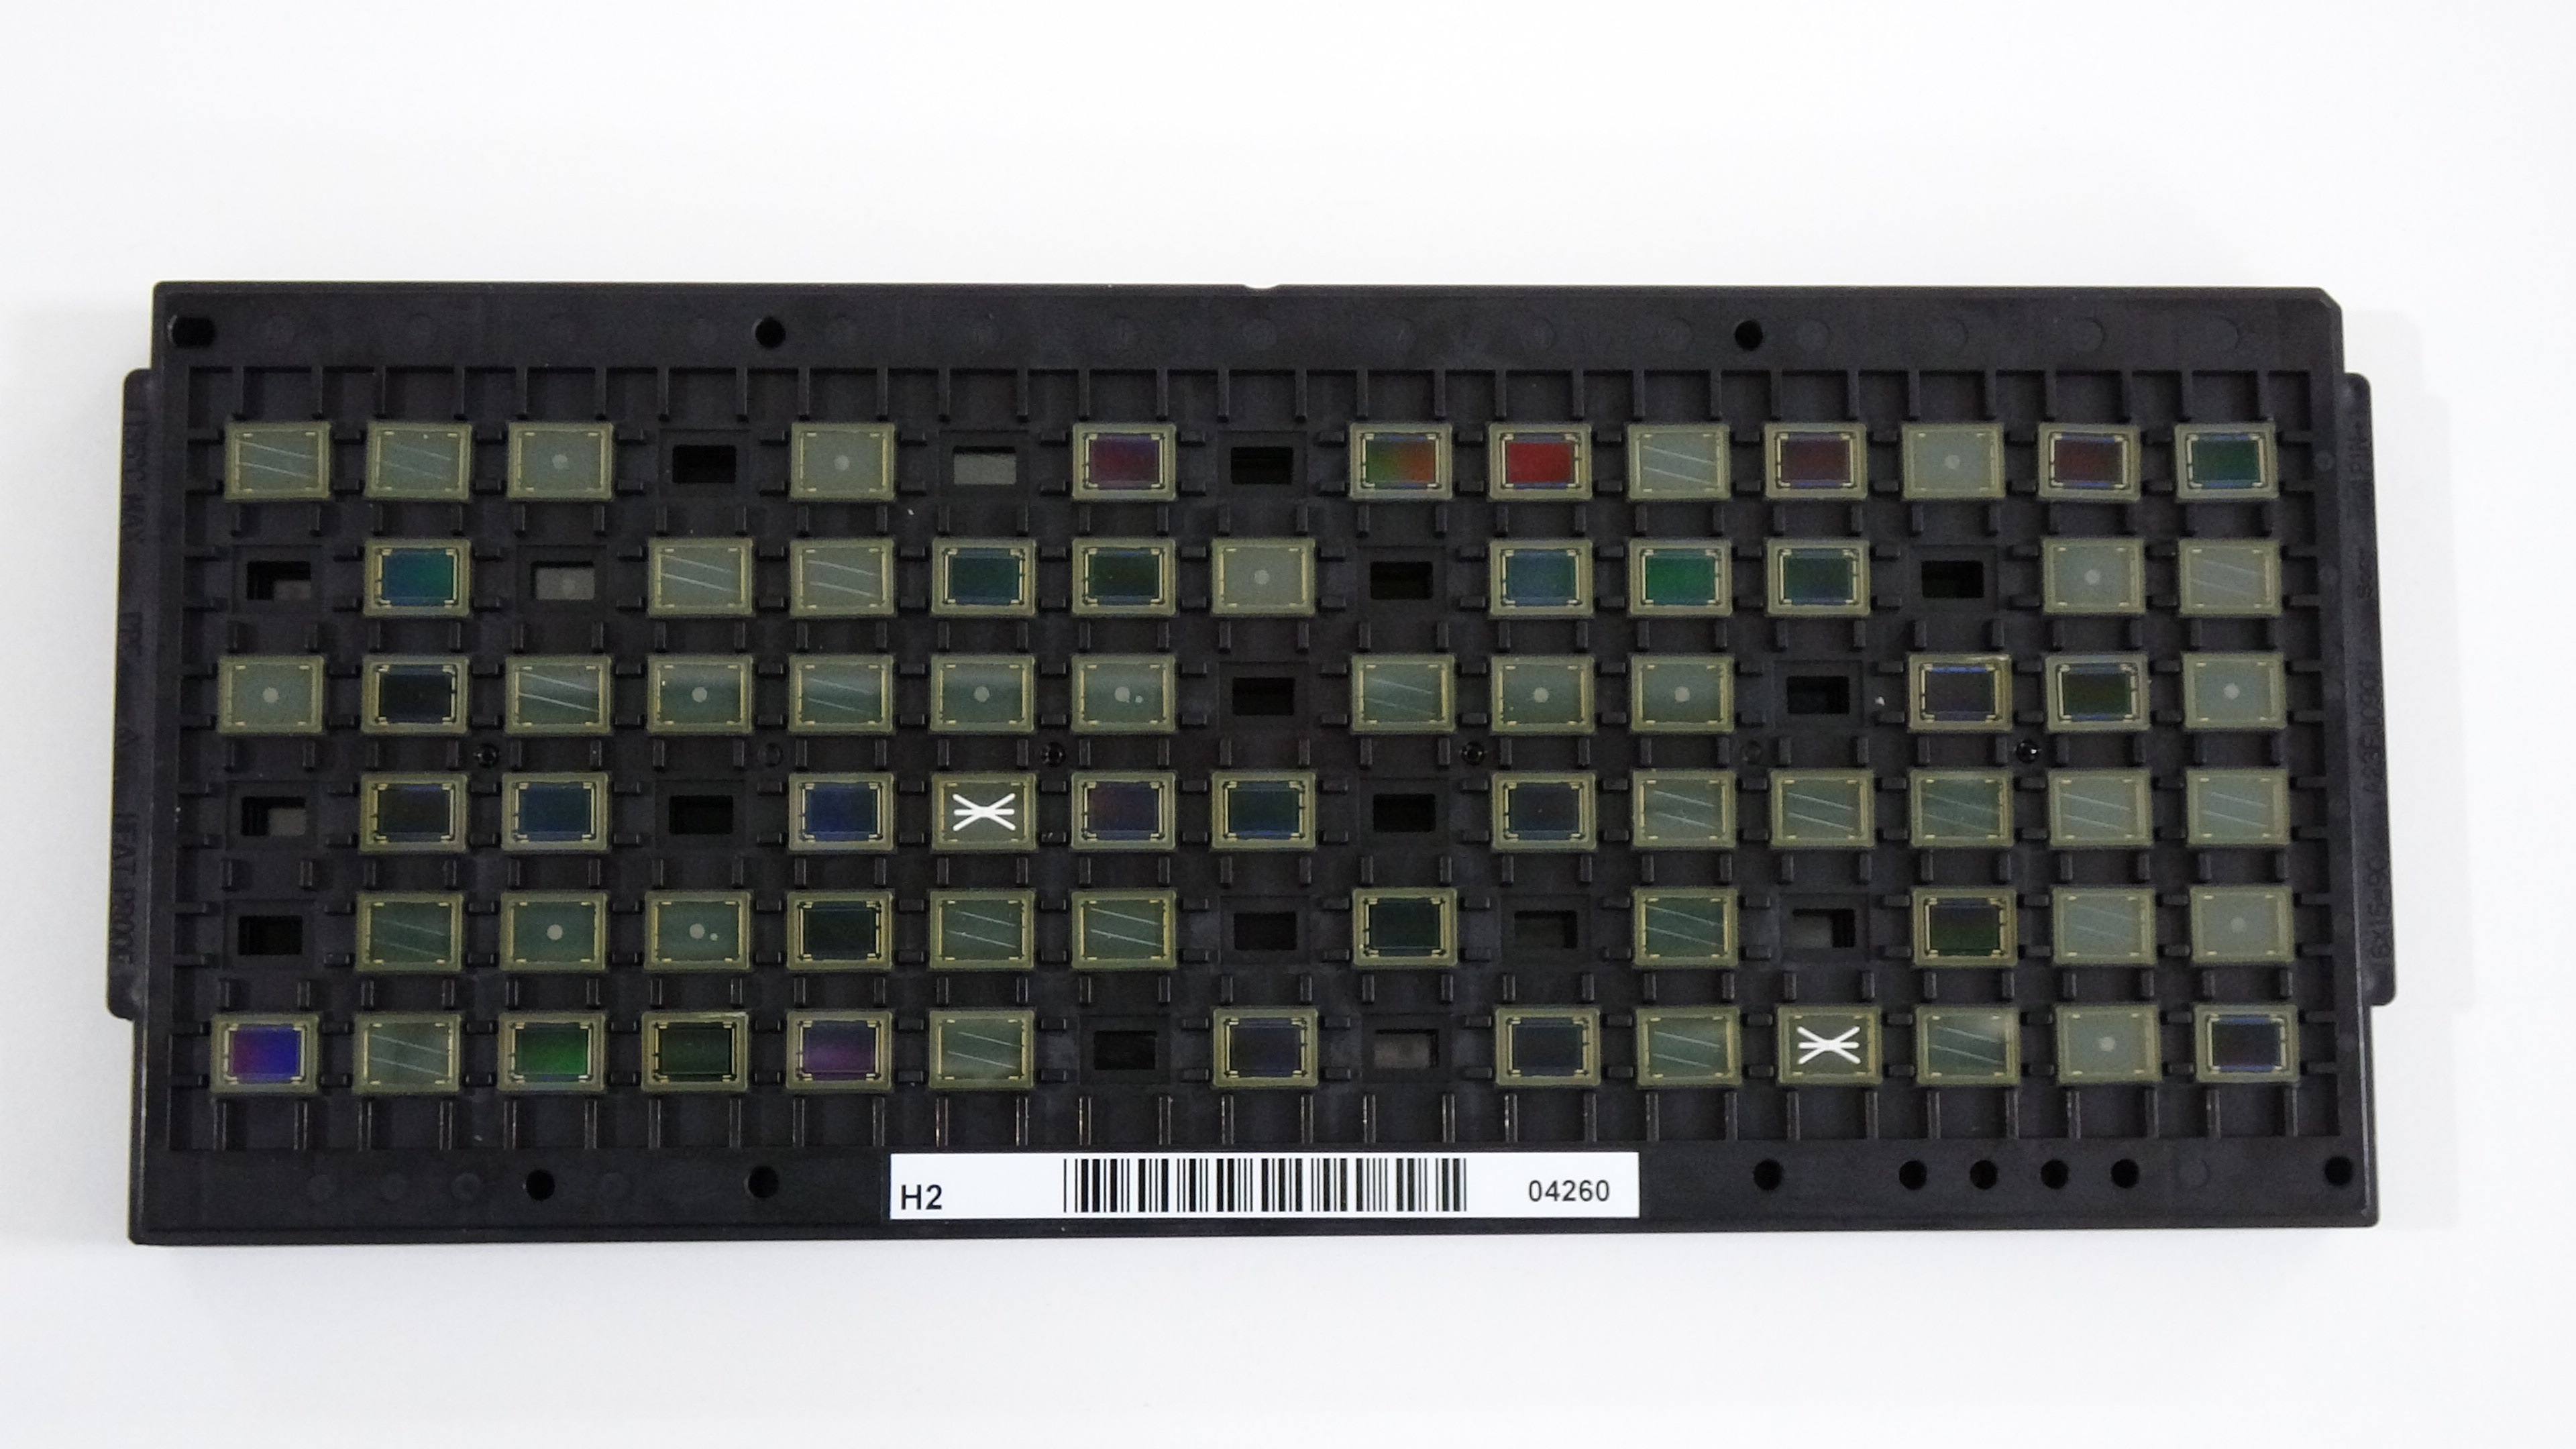Bad_mark_from_BMS_mold: (352, 888, 464, 973), (1637, 1000, 1741, 1088), (364, 418, 471, 504), (929, 885, 1035, 971), (223, 418, 329, 502), (1070, 885, 1177, 970), (925, 1007, 1035, 1088), (1633, 883, 1739, 966), (791, 534, 895, 617), (646, 533, 752, 614), (1909, 766, 2015, 847), (352, 1012, 460, 1092), (1771, 766, 1874, 849), (1916, 1001, 2019, 1085), (1350, 651, 1456, 731), (1629, 766, 1734, 846), (787, 655, 893, 732), (2189, 764, 2289, 846), (2054, 885, 2155, 966), (2051, 766, 2150, 847), (508, 653, 609, 732), (1628, 421, 1729, 501), (2181, 536, 2282, 614)
Bad_mark_from_CDB: (1771, 1001, 1879, 1092), (927, 768, 1039, 853)
Bad_mark_from_Maker: (506, 416, 614, 499), (644, 886, 750, 970), (1208, 536, 1316, 617), (497, 888, 607, 968), (1628, 653, 1737, 732), (2181, 651, 2291, 729), (2189, 885, 2293, 966), (1070, 649, 1173, 731), (2054, 1005, 2164, 1081), (2040, 534, 2144, 614), (1488, 655, 1594, 732), (932, 649, 1033, 731), (646, 653, 752, 729), (791, 419, 892, 499), (221, 651, 322, 729), (1900, 419, 2005, 494)
